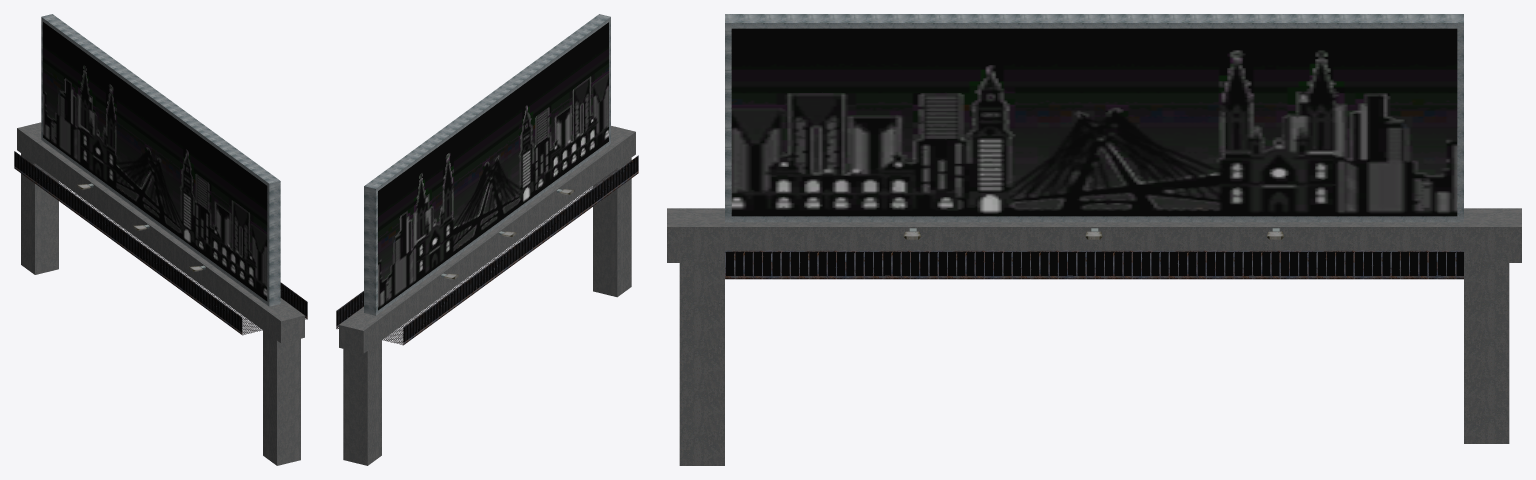
Rendered from airwelcomesign_sfse.obj.
3 renders of one model, left to right at view 1: azimuth 30°, elevation 25°; view 2: azimuth 150°, elevation 25°; view 3: azimuth 270°, elevation 25°, orthographic. The views are drawn at different scales.
Parts seen in each view (by area): view 1: airwelcomesign_SFSe; view 2: airwelcomesign_SFSe; view 3: airwelcomesign_SFSe.
Part boxes in pixels (x1=…): airwelcomesign_SFSe: x1=14, y1=14, x2=307, y2=465; airwelcomesign_SFSe: x1=336, y1=14, x2=638, y2=465; airwelcomesign_SFSe: x1=667, y1=14, x2=1521, y2=465.
Size of the model in its own units: 5.73 by 22.73 by 40.2.
Materials: 7 (7 with a texture image).
